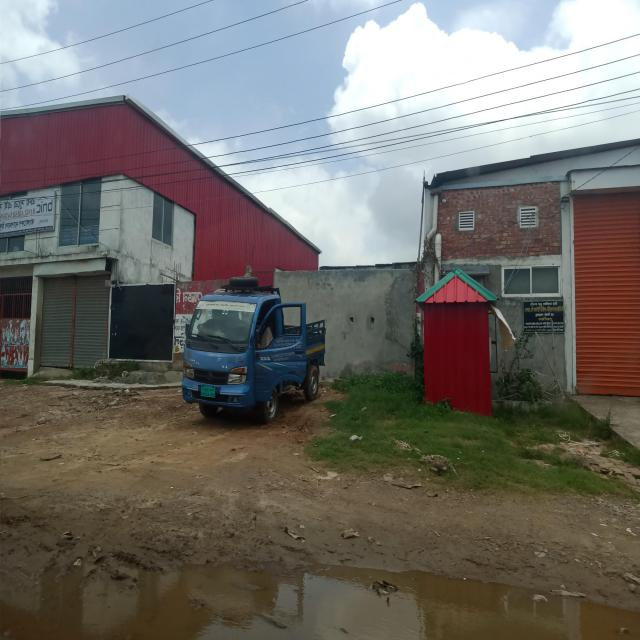pickup-van: (165, 264, 335, 428)
